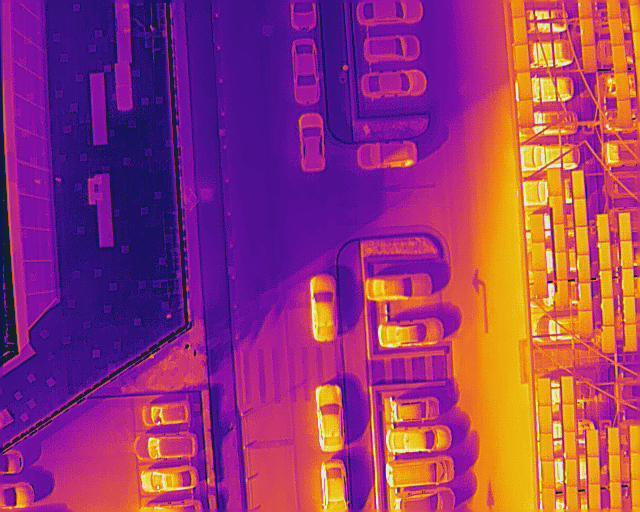Cell: (579, 17, 595, 46), (533, 270, 547, 298), (598, 241, 610, 270), (566, 487, 580, 511), (564, 430, 576, 458)
Cell-Multi: (565, 459, 577, 486)
No-Anomaly: (608, 18, 624, 46), (513, 16, 528, 45), (612, 44, 627, 73), (517, 72, 532, 100), (548, 168, 563, 196), (583, 45, 597, 74), (618, 99, 632, 128), (514, 45, 529, 72), (541, 461, 555, 489), (616, 73, 630, 100), (540, 433, 553, 462), (576, 226, 589, 255), (572, 171, 585, 200), (586, 430, 599, 458), (600, 270, 613, 298), (579, 310, 592, 338), (520, 100, 534, 126), (531, 215, 544, 243), (539, 406, 552, 433), (619, 214, 632, 241), (563, 403, 575, 432), (575, 199, 587, 228), (621, 240, 633, 268), (623, 297, 635, 324), (587, 457, 599, 484), (562, 376, 574, 403), (538, 379, 550, 406), (533, 243, 545, 270), (554, 224, 566, 251), (609, 454, 620, 483), (556, 252, 567, 281), (601, 299, 613, 325), (603, 326, 615, 352), (622, 269, 633, 297), (625, 324, 636, 352), (598, 214, 609, 242), (553, 196, 564, 224), (609, 482, 620, 508), (589, 484, 600, 510), (608, 428, 619, 454)
Unclassified: (578, 283, 591, 311), (577, 255, 589, 283)
